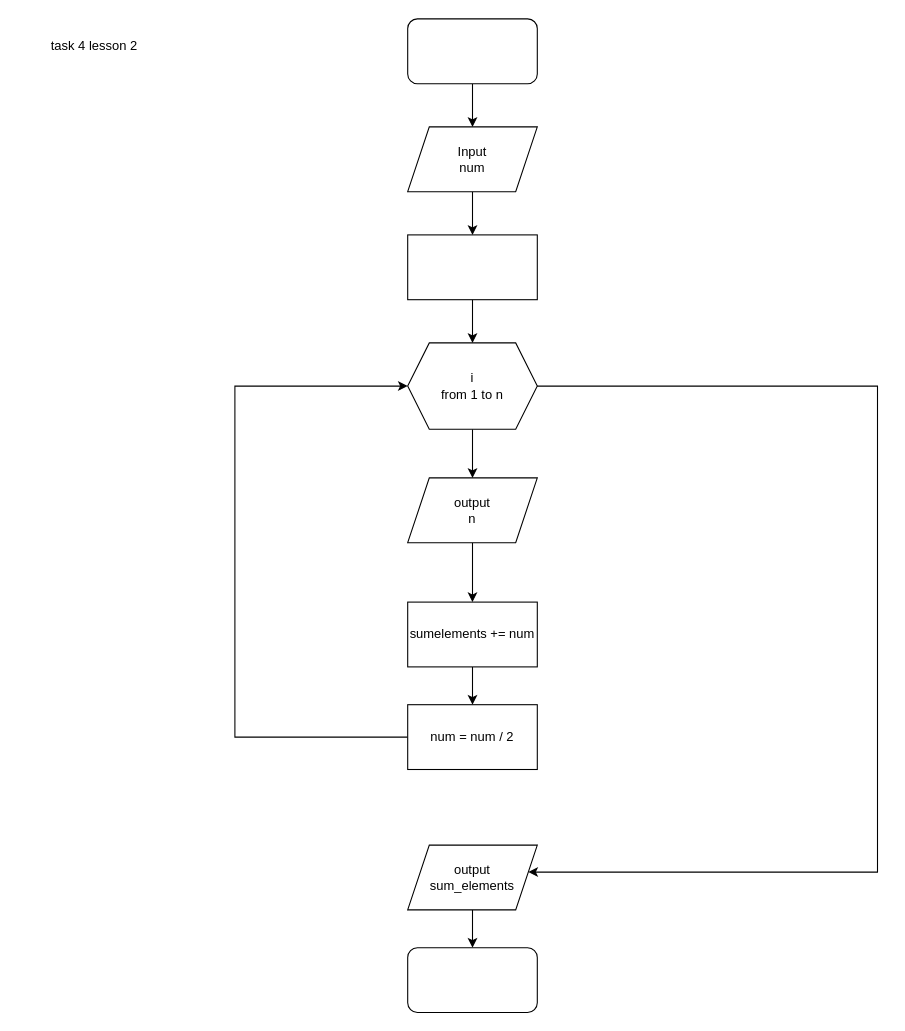
Image size: 905x1031. Some labels were removed from this diagram. The shapes that lost their labels are listed below. From the top down, each one's centre as x and y in pixels, then its label:
At point (472, 51): "Start".
At point (472, 267): "sumelements = 0 num =1".
At point (472, 980): "end".
